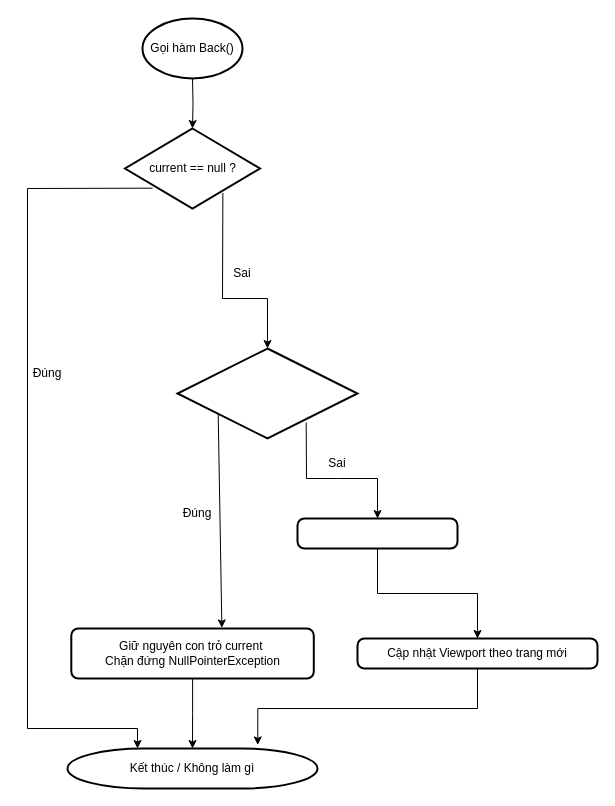
Image size: 615x806. Some labels were removed from this diagram. Each missing label, with the centre of its shape:
"current = current.prev" belongs at [377,533].
"current.prev == null?" belongs at [267,393].
